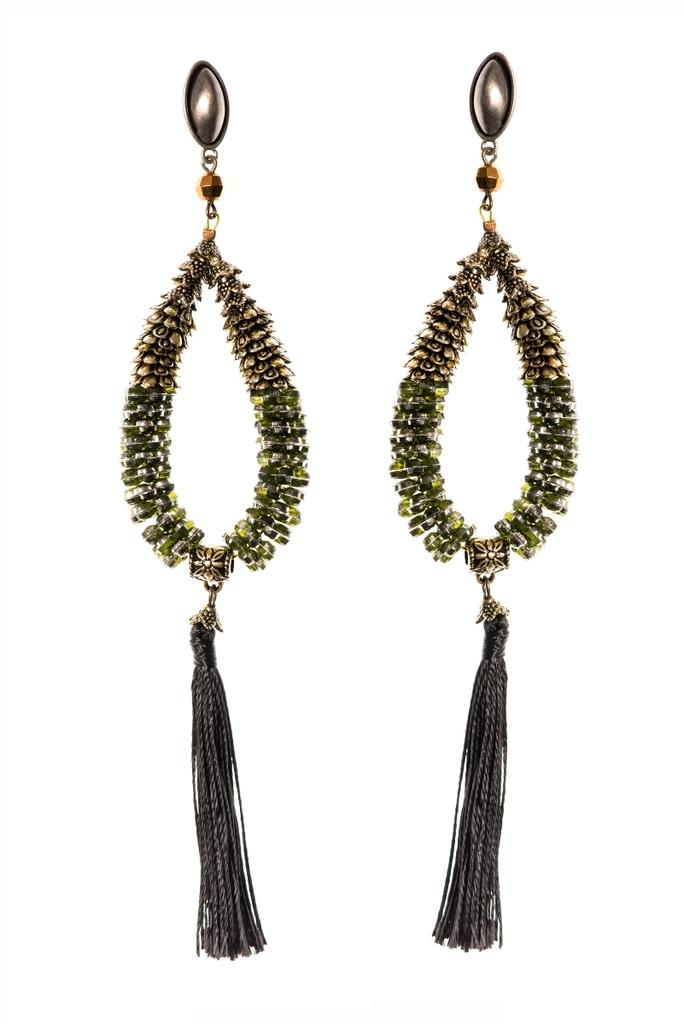earring: (381, 44, 586, 953), (117, 53, 304, 963)
